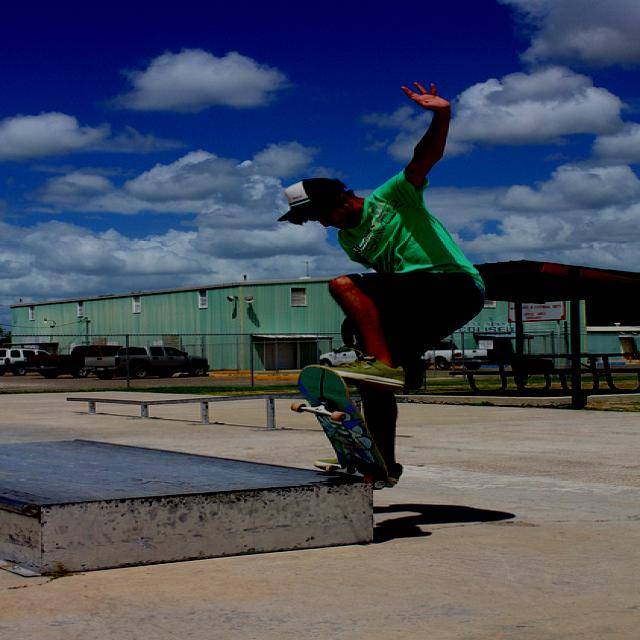Vehicle: (23, 345, 120, 380), (113, 345, 211, 379), (420, 340, 490, 370), (0, 346, 50, 376), (0, 348, 50, 376)
